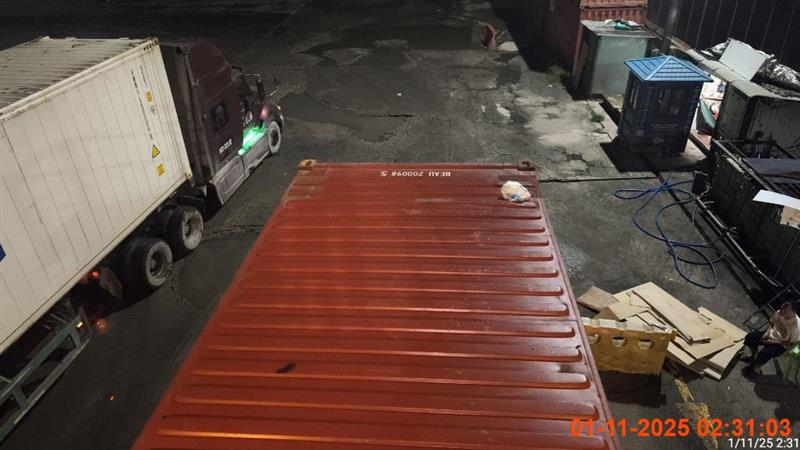broken: (133, 159, 618, 442), (0, 34, 286, 435), (743, 301, 799, 376)
